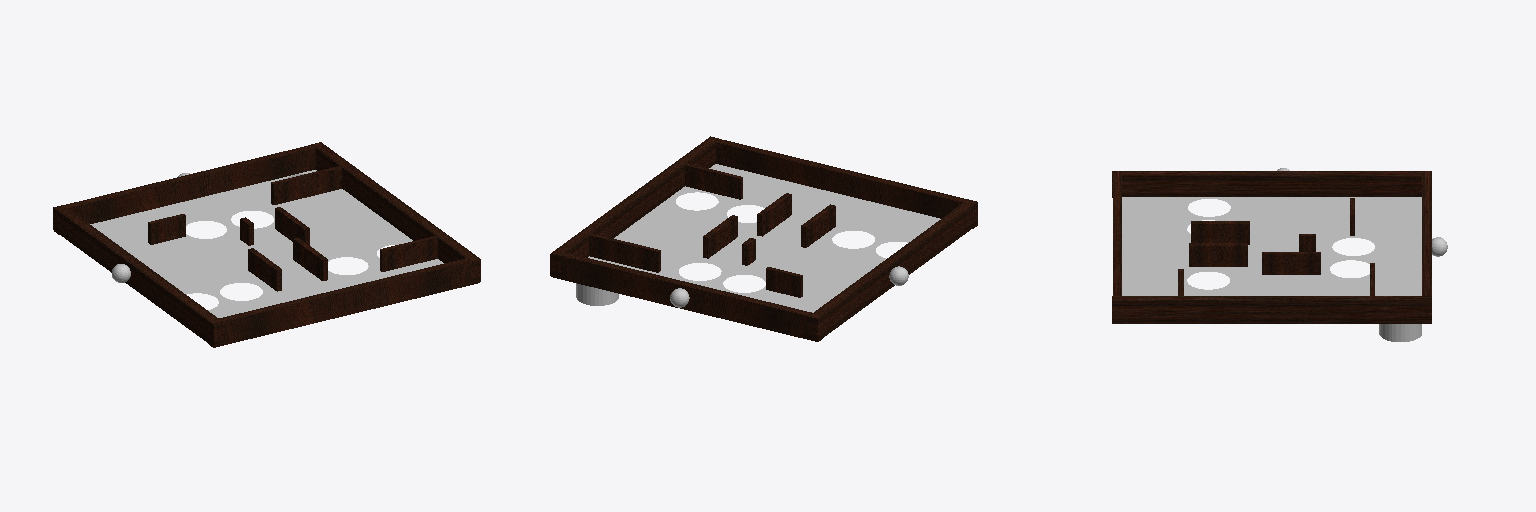
3 renders of one model, left to right at view 1: azimuth 30°, elevation 25°; view 2: azimuth 150°, elevation 25°; view 3: azimuth 270°, elevation 25°, orthographic.
Parts seen in each view (by area): view 1: Cube, Plane, Cube.001, Cube.003, Cube.002, Cube.005, Cube.004, Cube.006; view 2: Cube, Plane, Cube.001, Cube.003, Cube.006, Cube.004, Cube.005, Cube.002; view 3: Plane, Cube, Cube.005, Cube.006, Cube.004.
Boxes of the visible parts, x1,y1,x2,y2 form: Cube: [53, 142, 480, 347]; Plane: [90, 170, 443, 317]; Cube.001: [271, 166, 341, 204]; Cube.003: [380, 236, 437, 271]; Cube.002: [148, 214, 185, 244]; Cube.005: [293, 238, 327, 280]; Cube.004: [248, 248, 281, 291]; Cube.006: [275, 207, 309, 245]; Cube: [550, 136, 977, 341]; Plane: [576, 164, 940, 312]; Cube.001: [589, 233, 660, 272]; Cube.003: [685, 163, 742, 199]; Cube.006: [703, 215, 737, 258]; Cube.004: [801, 204, 835, 247]; Cube.005: [757, 193, 791, 236]; Cube.002: [766, 267, 802, 297]; Plane: [1122, 197, 1421, 341]; Cube: [1112, 171, 1431, 323]; Cube.005: [1189, 243, 1247, 266]; Cube.006: [1262, 252, 1320, 274]; Cube.004: [1191, 221, 1249, 244].
Bounding box in the file's own units: 15.15 × 2.43 × 15.58.
11 materials, 1 textured.